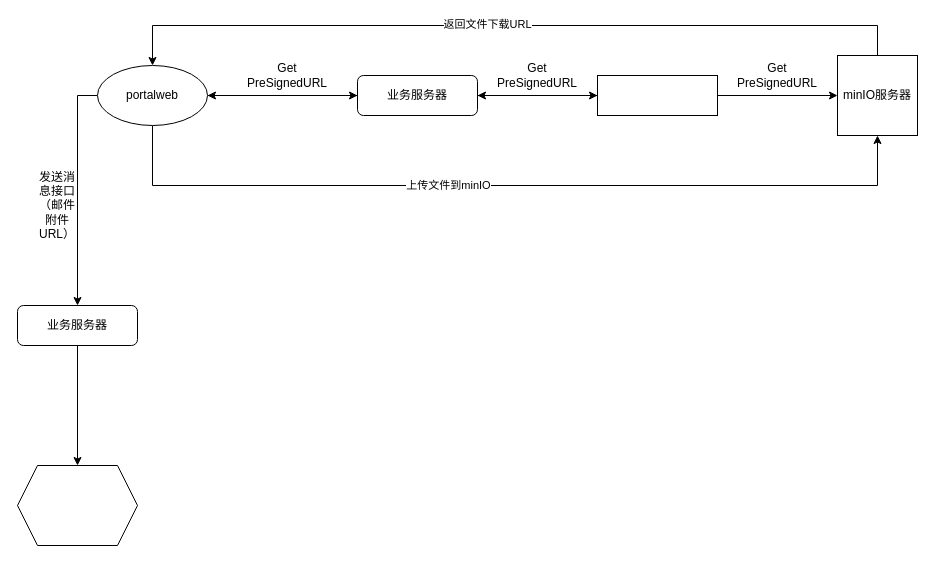
The diagram is 935 pixels wide and 563 high, and some of its shapes have lost their labels. The shapes that lost their labels are listed below. From the top down, each one's box as (x1, y1, x2, y2) in pixels, then its label:
(596, 74, 718, 116): 文件管理服务器
(16, 464, 138, 546): 邮件服务器
